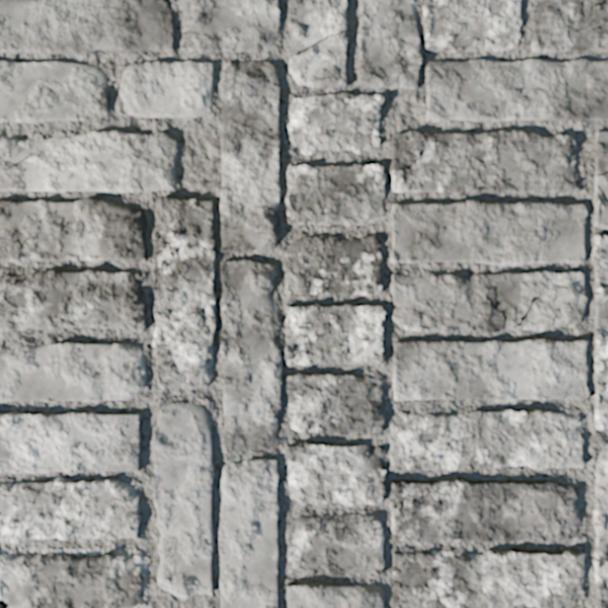brick: (391, 201, 587, 265), (390, 479, 583, 543), (393, 340, 589, 402), (391, 272, 586, 334), (390, 131, 580, 194), (390, 410, 584, 471), (154, 197, 215, 390), (153, 403, 213, 597), (221, 261, 282, 450), (221, 61, 280, 252), (426, 59, 607, 121), (392, 550, 585, 607), (0, 131, 178, 192), (0, 0, 175, 54), (0, 199, 145, 264), (0, 478, 140, 543), (0, 271, 145, 333), (220, 458, 278, 607), (0, 343, 145, 402), (0, 413, 140, 474), (0, 62, 109, 123), (287, 442, 385, 506), (286, 305, 385, 365), (287, 165, 385, 225), (284, 235, 382, 295), (288, 515, 384, 576), (287, 374, 383, 435), (288, 94, 383, 154), (358, 0, 421, 89), (120, 61, 213, 118), (182, 0, 281, 53), (289, 0, 347, 88), (424, 0, 521, 52), (531, 0, 607, 53), (593, 235, 607, 429), (288, 583, 384, 607), (594, 446, 607, 607), (594, 193, 607, 228), (596, 132, 607, 173), (596, 176, 607, 194)
broken_brick: (0, 552, 144, 607)
crack: (295, 3, 348, 56), (550, 0, 607, 42), (513, 294, 542, 329), (404, 132, 426, 177), (431, 133, 454, 173), (397, 482, 411, 524), (596, 183, 607, 222), (564, 365, 575, 399), (0, 236, 30, 248), (115, 517, 138, 528), (183, 31, 210, 37), (0, 600, 11, 607), (596, 171, 607, 177), (585, 396, 590, 402)
